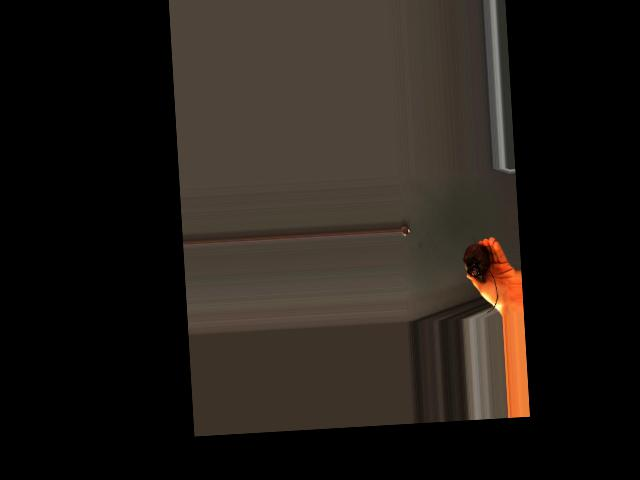beet: (462, 233, 499, 313)
